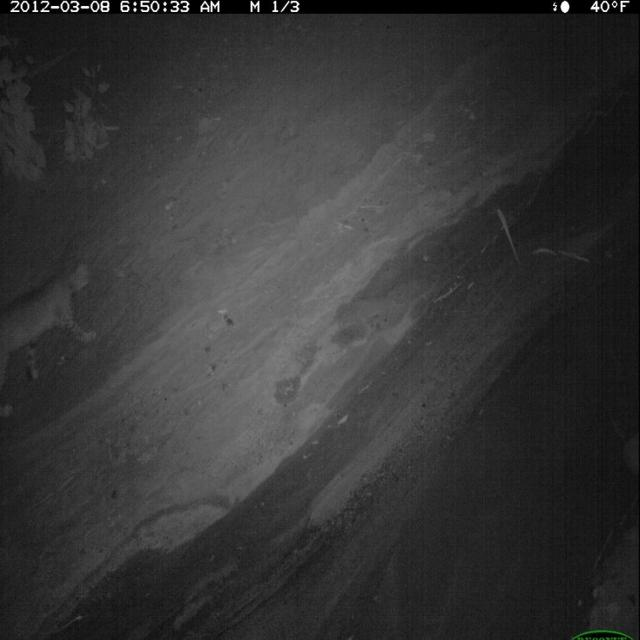bobcat: (1, 236, 102, 421)
